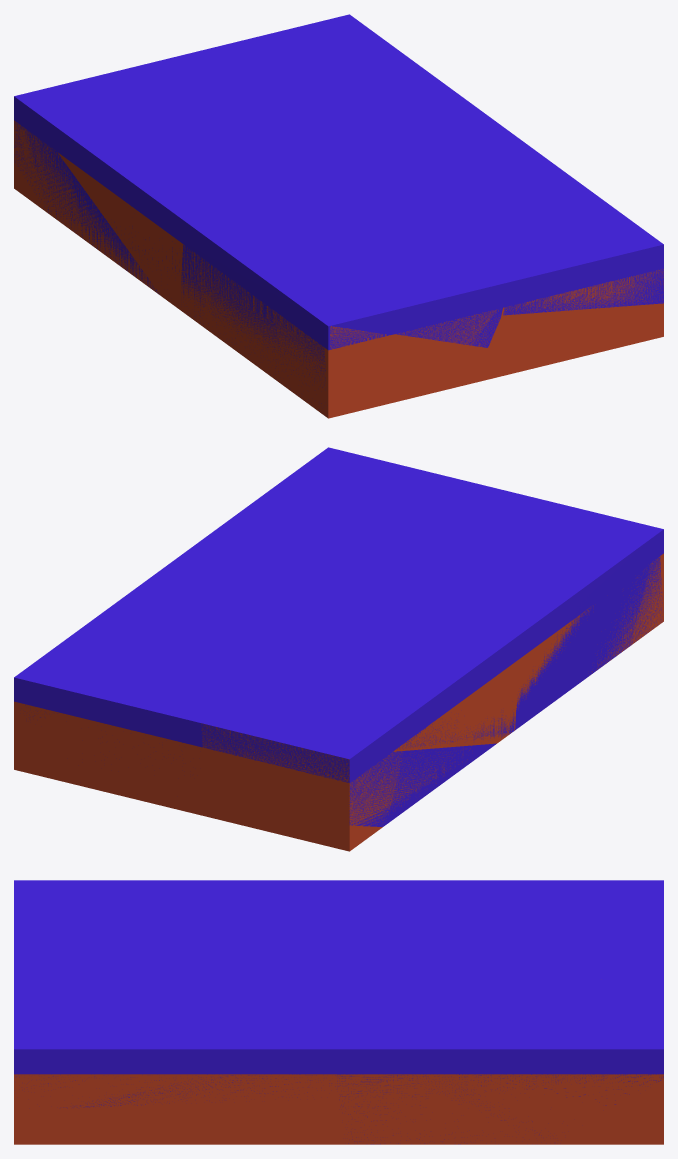
File: P_SpongeColored_Breackable.fbx
The picture shows the model from 3 angles, top to bottom: view 1: azimuth 30°, elevation 25°; view 2: azimuth 150°, elevation 25°; view 3: azimuth 270°, elevation 25°; orthographic projection. The views are drawn at different scales.
Parts seen in each view (by area): view 1: P_Eponge_Colored_Breakable, P_Eponge_Colored_Breakable_cell.010, P_Eponge_Colored_Breakable_cell.006, P_Eponge_Colored_Breakable_cell.004, P_Eponge_Colored_Breakable_cell.011, P_Eponge_Colored_Breakable_cell.008, P_Eponge_Colored_Breakable_cell.001, P_Eponge_Colored_Breakable_cell.005, P_Eponge_Colored_Breakable_cell.003; view 2: P_Eponge_Colored_Breakable, P_Eponge_Colored_Breakable_cell.006, P_Eponge_Colored_Breakable_cell.010, P_Eponge_Colored_Breakable_cell.004, P_Eponge_Colored_Breakable_cell.011, P_Eponge_Colored_Breakable_cell.002, P_Eponge_Colored_Breakable_cell.003; view 3: P_Eponge_Colored_Breakable, P_Eponge_Colored_Breakable_cell.010, P_Eponge_Colored_Breakable_cell.006, P_Eponge_Colored_Breakable_cell.011, P_Eponge_Colored_Breakable_cell.003, P_Eponge_Colored_Breakable_cell.005.
Boxes of the visible parts, x1,y1,x2,y2 form: P_Eponge_Colored_Breakable: [14, 15, 663, 418]; P_Eponge_Colored_Breakable_cell.010: [231, 14, 508, 168]; P_Eponge_Colored_Breakable_cell.006: [14, 60, 340, 294]; P_Eponge_Colored_Breakable_cell.004: [181, 242, 487, 408]; P_Eponge_Colored_Breakable_cell.011: [23, 103, 295, 273]; P_Eponge_Colored_Breakable_cell.008: [182, 219, 508, 347]; P_Eponge_Colored_Breakable_cell.001: [486, 305, 663, 379]; P_Eponge_Colored_Breakable_cell.005: [503, 244, 663, 315]; P_Eponge_Colored_Breakable_cell.003: [164, 36, 259, 93]; P_Eponge_Colored_Breakable: [14, 447, 663, 851]; P_Eponge_Colored_Breakable_cell.006: [201, 603, 496, 826]; P_Eponge_Colored_Breakable_cell.010: [14, 560, 332, 717]; P_Eponge_Colored_Breakable_cell.004: [515, 533, 662, 730]; P_Eponge_Colored_Breakable_cell.011: [362, 617, 517, 751]; P_Eponge_Colored_Breakable_cell.002: [199, 770, 378, 851]; P_Eponge_Colored_Breakable_cell.003: [104, 681, 236, 722]; P_Eponge_Colored_Breakable: [14, 880, 663, 1144]; P_Eponge_Colored_Breakable_cell.010: [331, 963, 663, 1144]; P_Eponge_Colored_Breakable_cell.006: [338, 880, 663, 966]; P_Eponge_Colored_Breakable_cell.011: [318, 880, 643, 942]; P_Eponge_Colored_Breakable_cell.003: [558, 955, 663, 1144]; P_Eponge_Colored_Breakable_cell.005: [14, 1049, 331, 1108].
Bounding box in the file's own units: 47.04 × 12.36 × 76.33.
